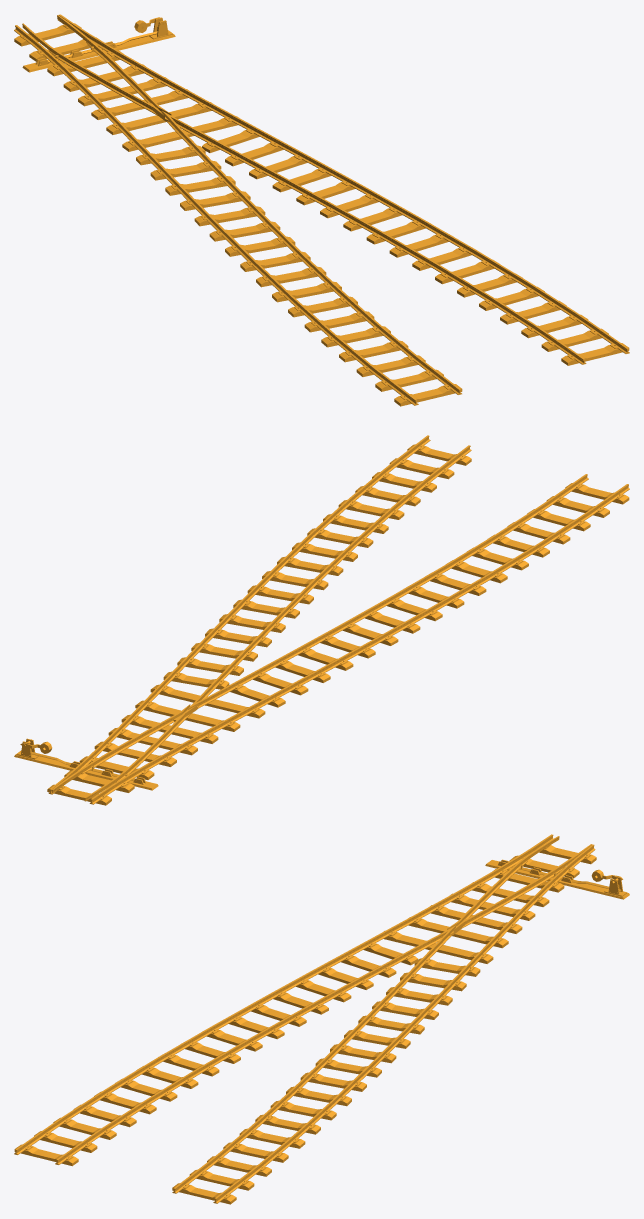
File: SM_Train_Rail_Straight_To_Double.fbx
3 views of the same model, one above another, from view 1: azimuth 30°, elevation 25°; view 2: azimuth 150°, elevation 25°; view 3: azimuth 330°, elevation 25° (orthographic). The views are drawn at different scales.
Visible parts, largest first — view 1: SM_Train_Rail_Straight_To_Double; view 2: SM_Train_Rail_Straight_To_Double; view 3: SM_Train_Rail_Straight_To_Double.
Boxes of the visible parts, bbox=[...] form: SM_Train_Rail_Straight_To_Double: bbox=[14, 14, 629, 406]; SM_Train_Rail_Straight_To_Double: bbox=[14, 435, 629, 805]; SM_Train_Rail_Straight_To_Double: bbox=[14, 834, 629, 1204].
Bounding box in the file's own units: 8.18 × 0.697 × 30.
